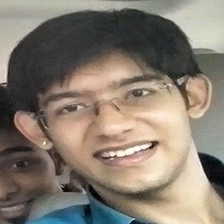no_mask: (40, 63, 189, 189)
